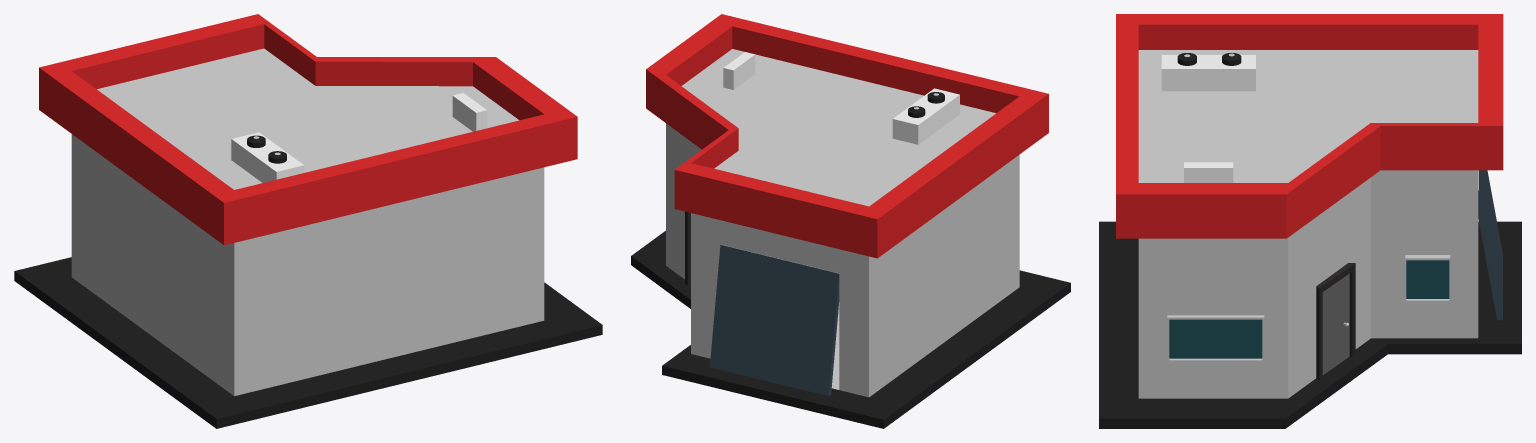
The model's file is LowPolyCarDealer_JAM23.fbx.
3 views of the same model, side by side, from view 1: azimuth 30°, elevation 25°; view 2: azimuth 150°, elevation 25°; view 3: azimuth 270°, elevation 25° (orthographic). The views are drawn at different scales.
Parts seen in each view (by area): view 1: Cube; view 2: Cube; view 3: Cube.
Part boxes in pixels (bbox=[...]): Cube: bbox=[14, 14, 602, 428]; Cube: bbox=[631, 14, 1070, 428]; Cube: bbox=[1099, 14, 1521, 428].
Bounding box in the file's own units: 27.88 × 15.17 × 25.29.
